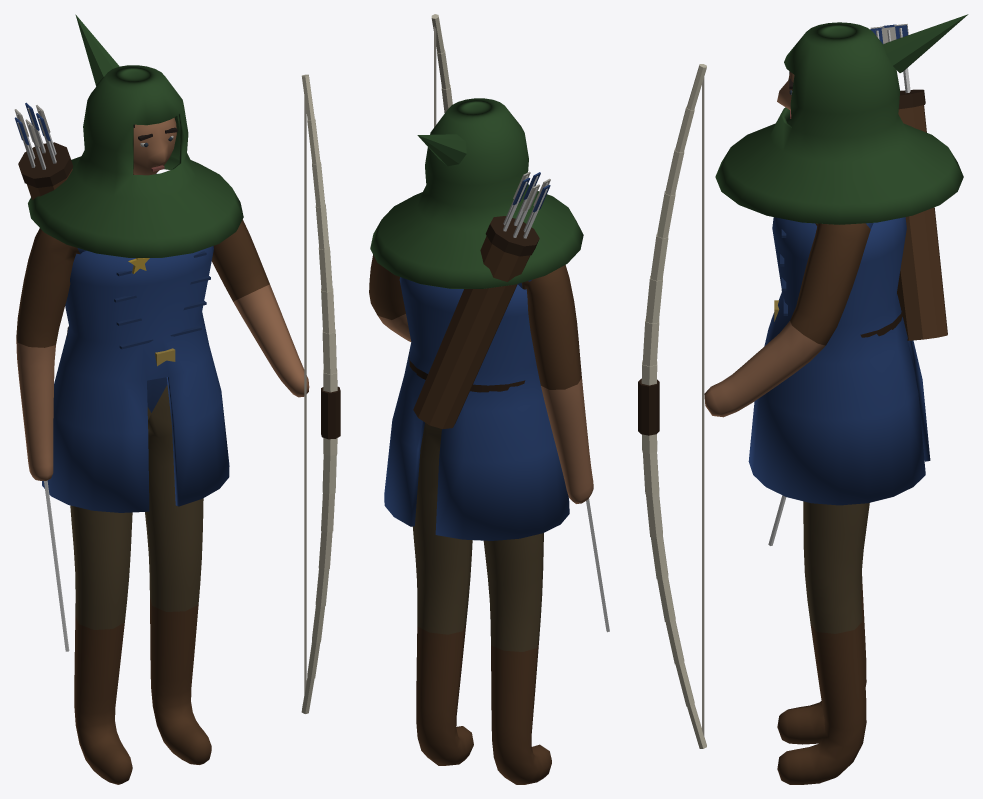
Rendered from soldier_bogen.glb.
3 renders of one model, left to right at view 1: azimuth 30°, elevation 25°; view 2: azimuth 150°, elevation 25°; view 3: azimuth 270°, elevation 25°, orthographic. The views are drawn at different scales.
Parts seen in each view (by area): view 1: soldier_bogen; view 2: soldier_bogen; view 3: soldier_bogen.
Boxes of the visible parts, x1,y1,x2,y2 form: soldier_bogen: (14, 14, 340, 784); soldier_bogen: (369, 14, 609, 784); soldier_bogen: (638, 14, 968, 784).
Bounding box in the file's own units: 0.6274 × 1.84 × 0.7323.
